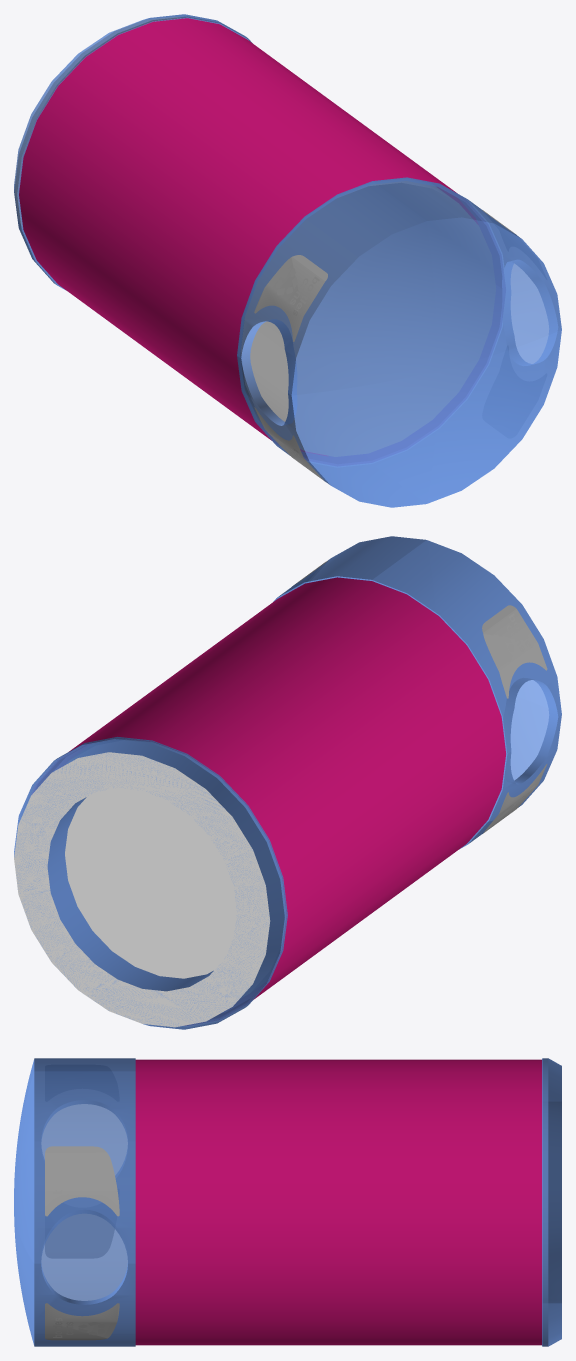
The model's file is model_align.obj.
The picture shows the model from 3 angles, top to bottom: view 1: azimuth 30°, elevation 25°; view 2: azimuth 150°, elevation 25°; view 3: azimuth 270°, elevation 25°; orthographic projection. The views are drawn at different scales.
Visible parts, largest first — view 1: mesh5_mesh5-geometry, mesh6_mesh6-geometry, mesh2_mesh2-geometry, mesh3_mesh3-geometry, mesh4_mesh4-geometry, mesh1_mesh1-geometry, mesh7_mesh7-geometry, mesh8_mesh8-geometry, mesh9_mesh9-geometry; view 2: mesh5_mesh5-geometry, mesh7_mesh7-geometry, mesh6_mesh6-geometry, mesh2_mesh2-geometry, mesh3_mesh3-geometry, mesh1_mesh1-geometry, mesh8_mesh8-geometry, mesh9_mesh9-geometry; view 3: mesh5_mesh5-geometry, mesh3_mesh3-geometry, mesh1_mesh1-geometry, mesh2_mesh2-geometry, mesh9_mesh9-geometry, mesh7_mesh7-geometry, mesh4_mesh4-geometry, mesh8_mesh8-geometry.
Part boxes in pixels (x1,y1,x2,y2): mesh5_mesh5-geometry: [19, 18, 478, 455]; mesh6_mesh6-geometry: [240, 181, 495, 456]; mesh2_mesh2-geometry: [237, 181, 437, 395]; mesh3_mesh3-geometry: [372, 177, 561, 370]; mesh4_mesh4-geometry: [364, 285, 561, 503]; mesh1_mesh1-geometry: [237, 355, 437, 507]; mesh7_mesh7-geometry: [14, 14, 252, 290]; mesh8_mesh8-geometry: [254, 255, 327, 341]; mesh9_mesh9-geometry: [254, 210, 516, 481]; mesh5_mesh5-geometry: [69, 577, 505, 999]; mesh7_mesh7-geometry: [14, 736, 287, 1029]; mesh6_mesh6-geometry: [65, 788, 236, 978]; mesh2_mesh2-geometry: [372, 540, 561, 754]; mesh3_mesh3-geometry: [273, 536, 434, 612]; mesh1_mesh1-geometry: [459, 689, 561, 849]; mesh8_mesh8-geometry: [482, 605, 547, 698]; mesh9_mesh9-geometry: [292, 561, 547, 833]; mesh5_mesh5-geometry: [135, 1059, 542, 1345]; mesh3_mesh3-geometry: [14, 1071, 135, 1263]; mesh1_mesh1-geometry: [14, 1142, 134, 1332]; mesh2_mesh2-geometry: [14, 1058, 135, 1189]; mesh9_mesh9-geometry: [45, 1146, 119, 1258]; mesh7_mesh7-geometry: [542, 1058, 561, 1346]; mesh4_mesh4-geometry: [14, 1209, 135, 1346]; mesh8_mesh8-geometry: [45, 1303, 119, 1340].
Size of the model in its own units: 0.0658 by 0.0658 by 0.1245.
